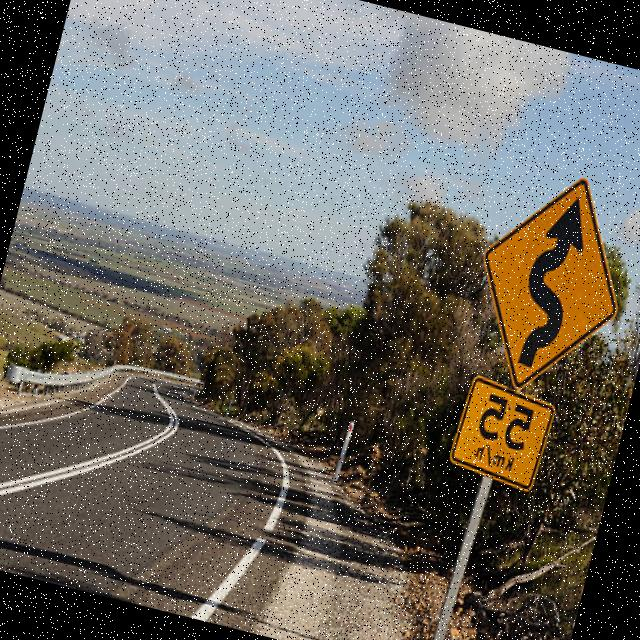left_sharp_curve: (455, 147, 640, 407)
